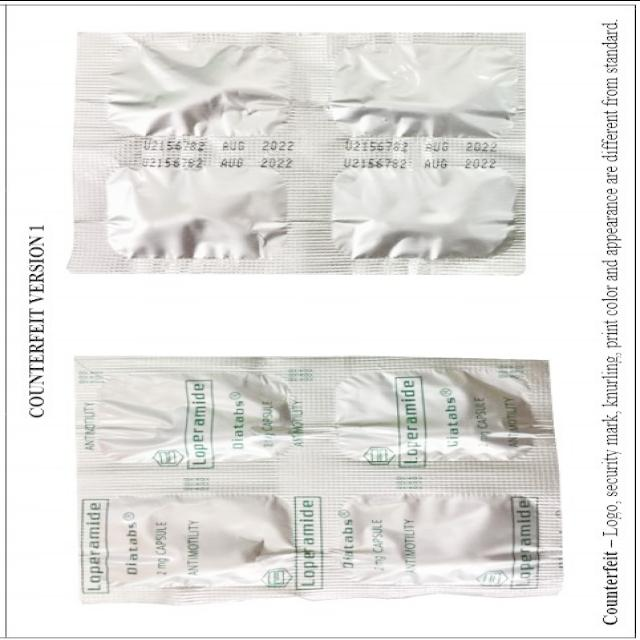counterfeit: (75, 356, 557, 604), (64, 28, 542, 276)
